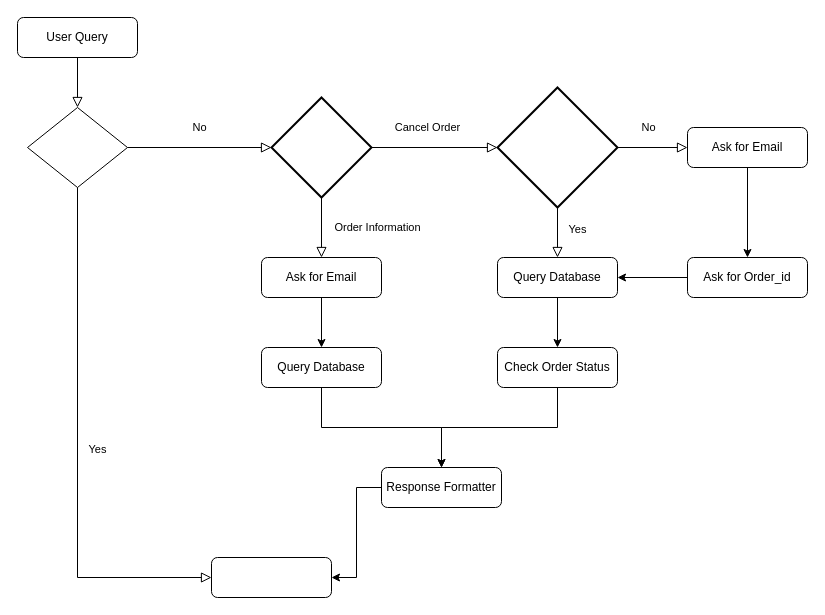
The diagram is 825 pixels wide and 615 high, and some of its shapes have lost their labels. Each missing label, with the centre of its shape:
Answer: (x=271, y=577)
Exist Email/Order_id: (x=557, y=147)
FaQ: (x=77, y=147)
User Intent: (x=321, y=147)
